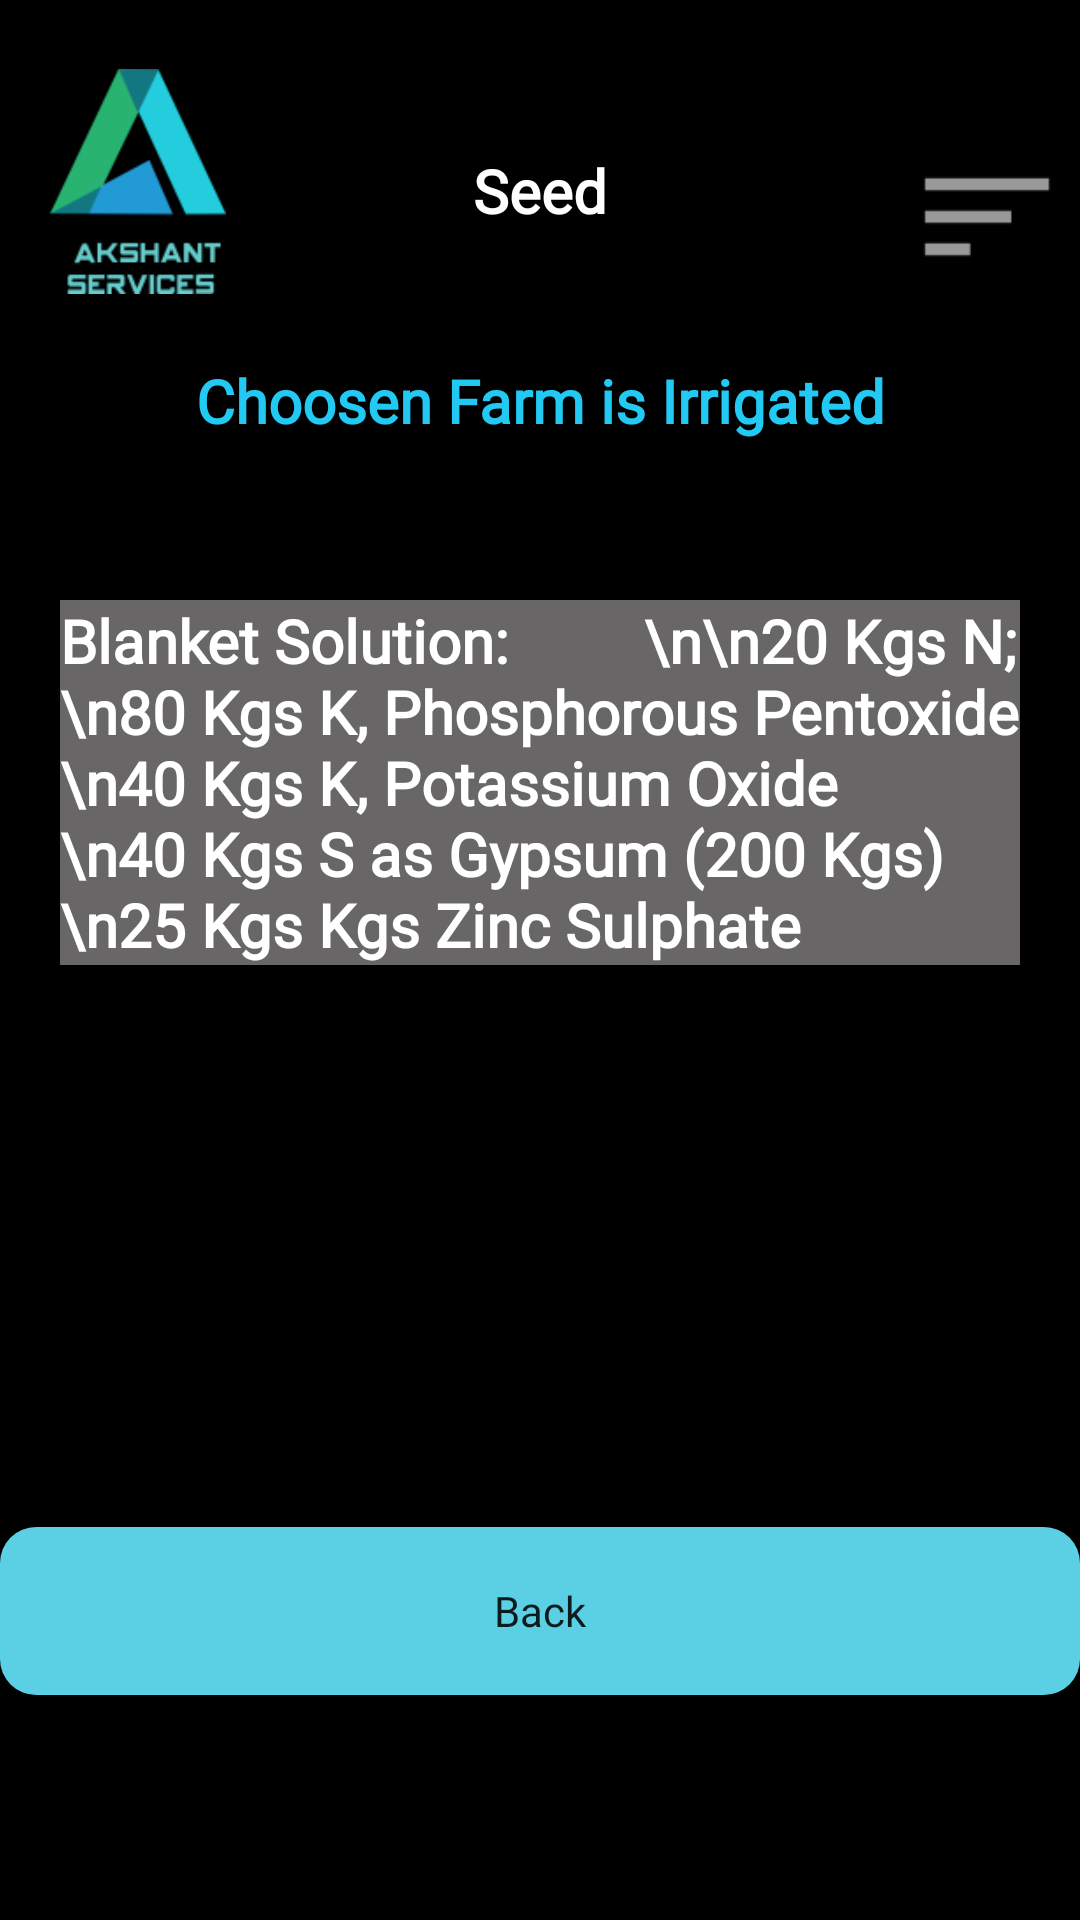

Locate icon controls on the screen. Image size 1080px x 1920px, boxes as rect(x1, y1, x2, y2).
sort by size: rect(924, 177, 1050, 256)
